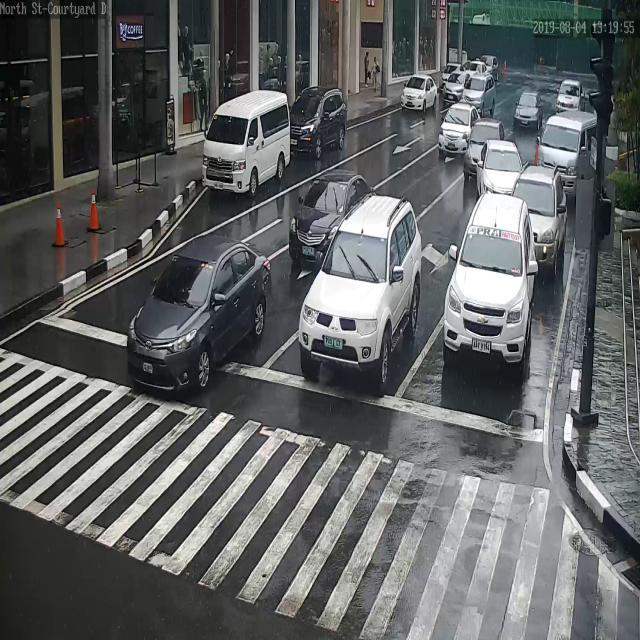car: (298, 194, 422, 392), (126, 234, 271, 391), (443, 191, 536, 375), (291, 169, 372, 268), (511, 159, 567, 280), (290, 87, 347, 153), (477, 138, 523, 198), (464, 120, 505, 180), (438, 102, 481, 153), (460, 73, 495, 116), (401, 74, 438, 112), (515, 90, 543, 128), (442, 73, 474, 105), (556, 79, 583, 112), (439, 62, 464, 92), (481, 54, 498, 78), (467, 59, 488, 75)
van: (202, 89, 290, 192), (537, 111, 597, 196)
